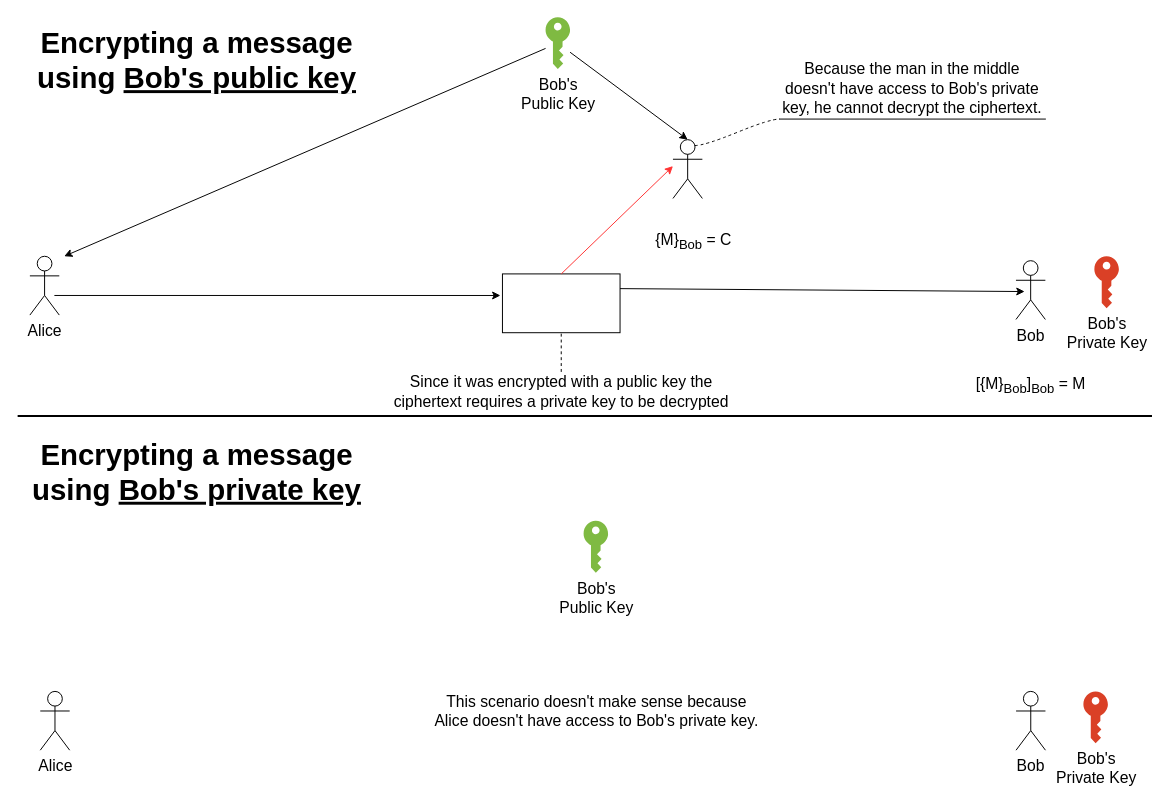
Some shapes in this 1170 by 804 pixel diagram are drawn without their labels. The centre of each missing label's shape, as x and y in pixels:
"Hacker" belongs at point 687,168.
"{M} Bob" belongs at point 560,303.
